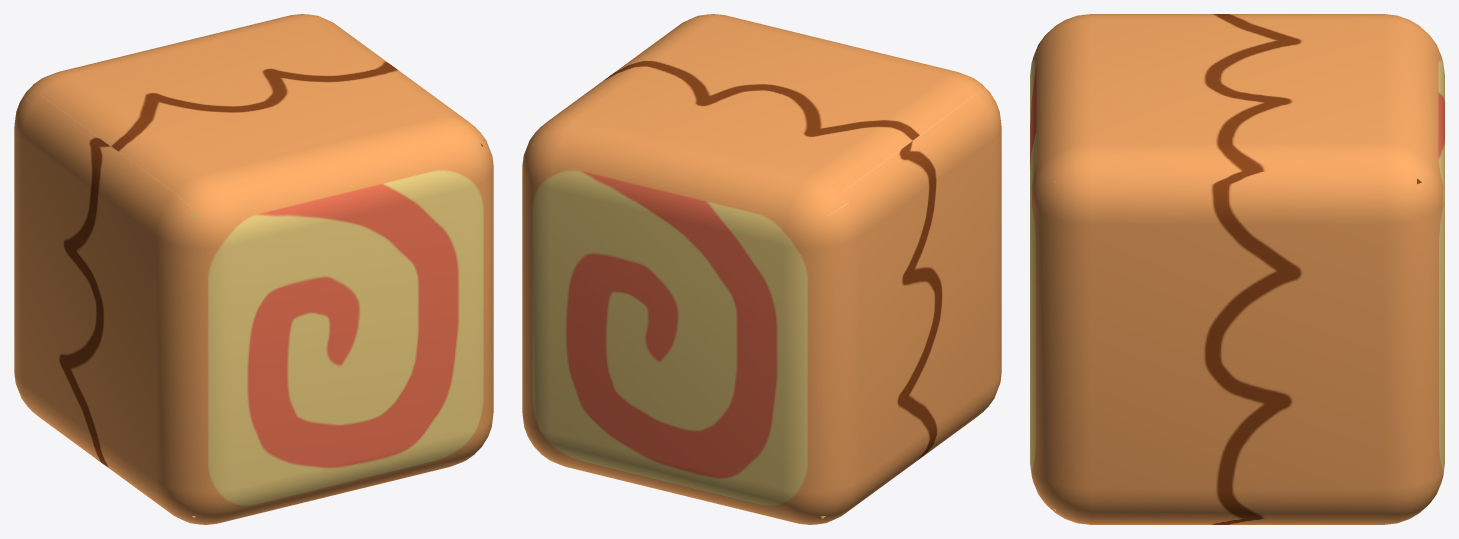
The model's file is block_rollcake02.fbx.
3 renders of one model, left to right at view 1: azimuth 30°, elevation 25°; view 2: azimuth 150°, elevation 25°; view 3: azimuth 270°, elevation 25°, orthographic. The views are drawn at different scales.
Parts seen in each view (by area): view 1: 큐브; view 2: 큐브; view 3: 큐브.
Part boxes in pixels (bbox=[...]): 큐브: bbox=[14, 14, 493, 524]; 큐브: bbox=[522, 14, 1001, 524]; 큐브: bbox=[1030, 14, 1444, 524].
Size of the model in its own units: 30398 by 30398 by 30398.
Materials: 1 (1 with a texture image).
